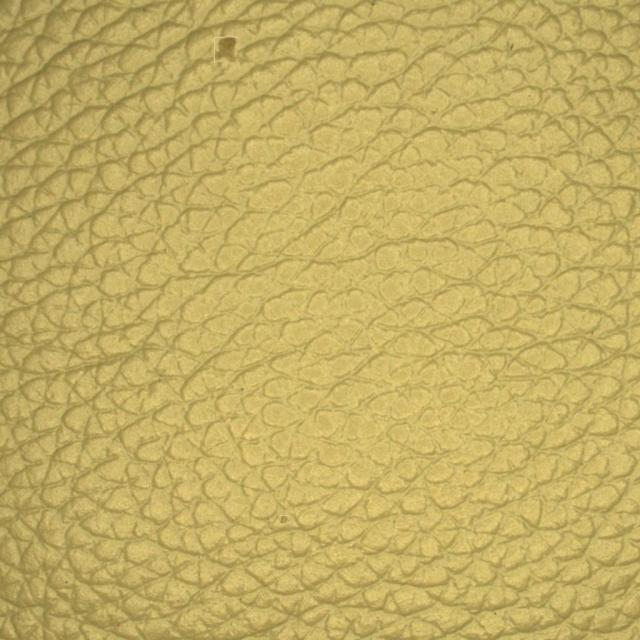pinhole: (173, 10, 285, 171)
